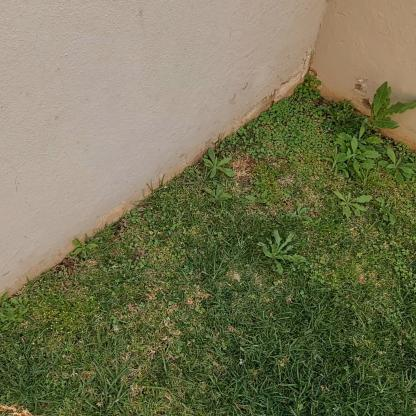Weeds: (257, 230, 306, 274), (369, 95, 415, 134), (342, 138, 381, 175), (384, 147, 415, 185), (0, 290, 29, 329), (334, 191, 373, 219), (339, 126, 381, 151), (322, 148, 353, 181), (204, 146, 234, 179), (379, 196, 399, 226), (205, 184, 232, 206), (71, 237, 98, 258), (289, 204, 315, 225), (246, 192, 269, 204)
